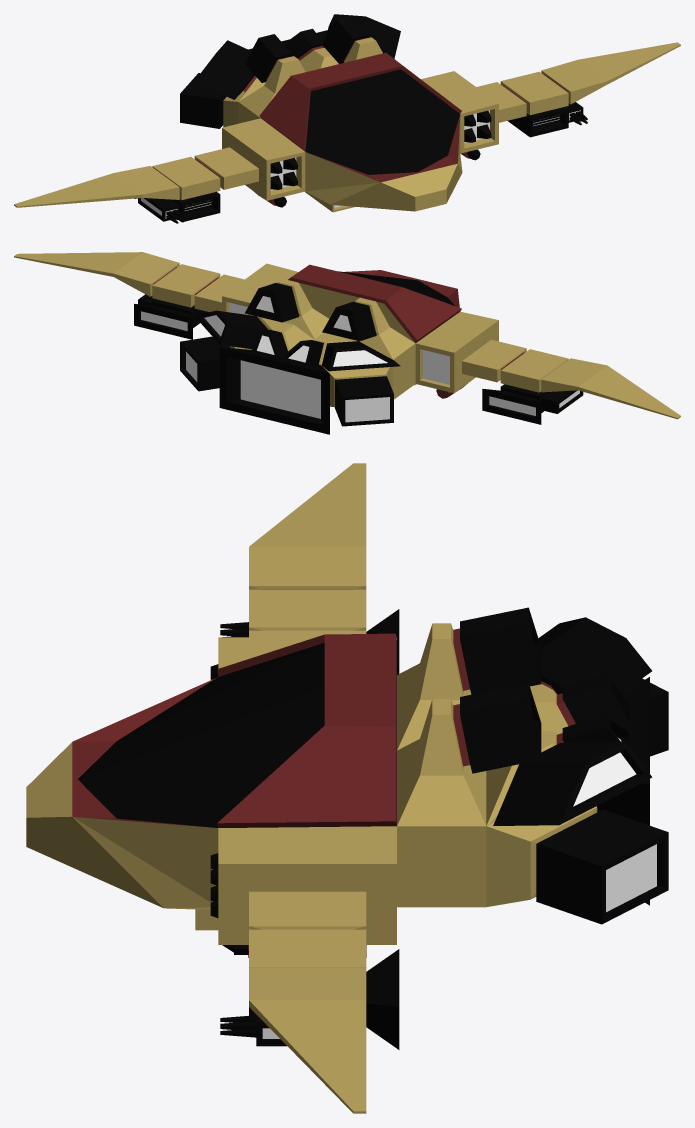
Rendered from SpaceShip7.fbx.
3 views of the same model, one above another, from view 1: azimuth 30°, elevation 25°; view 2: azimuth 150°, elevation 25°; view 3: azimuth 270°, elevation 25° (orthographic). The views are drawn at different scales.
Parts seen in each view (by area): view 1: Head.006, Wing.006, Engine.006, Weap.006; view 2: Engine.006, Wing.006, Head.006, Weap.006; view 3: Engine.006, Head.006, Wing.006, Weap.006.
Boxes of the visible parts, x1=… form: Head.006: x1=259, y1=52, x2=462, y2=212; Wing.006: x1=14, y1=42, x2=680, y2=223; Engine.006: x1=180, y1=14, x2=400, y2=128; Weap.006: x1=222, y1=71, x2=498, y2=207; Engine.006: x1=180, y1=278, x2=415, y2=434; Wing.006: x1=14, y1=252, x2=680, y2=424; Head.006: x1=288, y1=264, x2=461, y2=385; Weap.006: x1=222, y1=263, x2=498, y2=398; Engine.006: x1=397, y1=607, x2=668, y2=924; Head.006: x1=26, y1=633, x2=396, y2=930; Wing.006: x1=220, y1=463, x2=399, y2=1113; Weap.006: x1=210, y1=637, x2=396, y2=957.
Bounding box in the file's own units: 1715 × 275 × 719.
